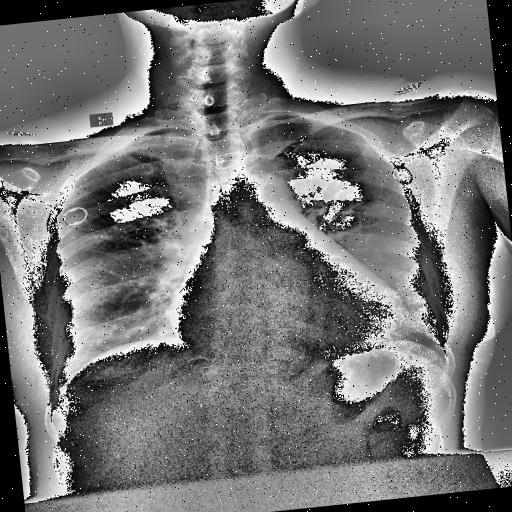3- Cardiomegaly: (165, 261, 411, 367), (162, 268, 410, 368), (166, 271, 412, 367)
